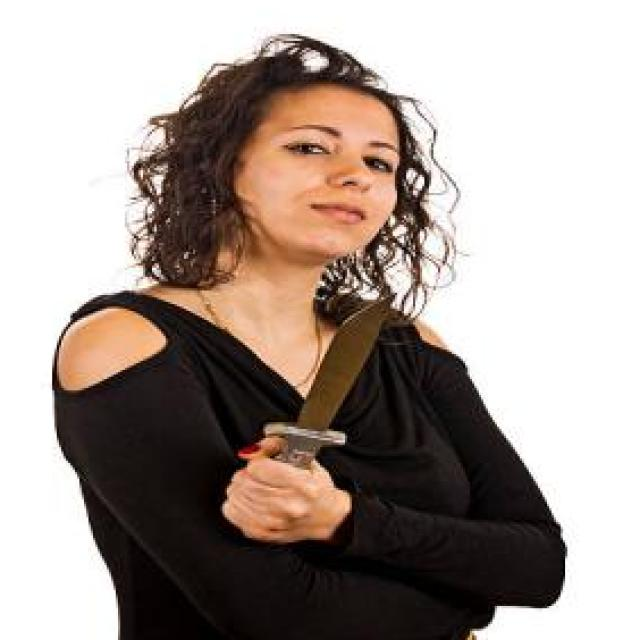knife: (230, 290, 407, 500)
